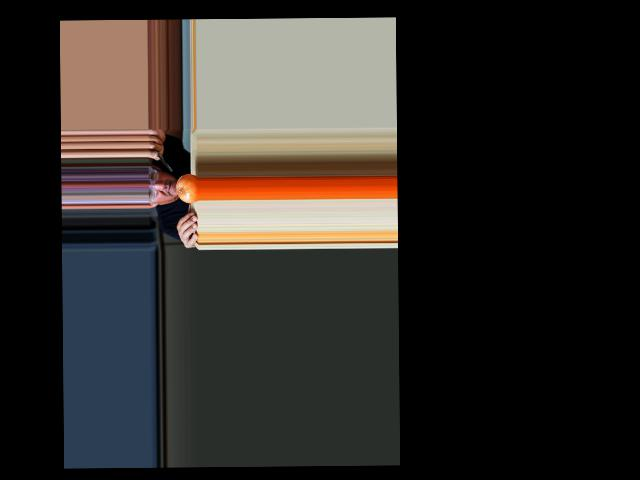onion: (176, 173, 198, 203)
